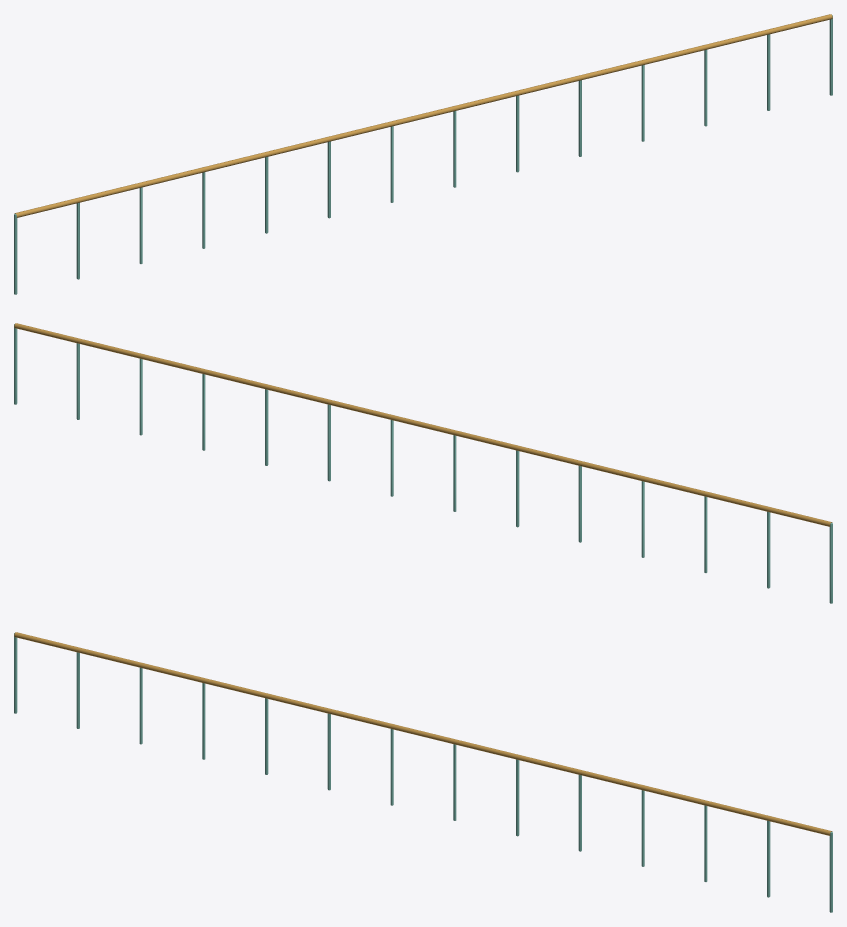
File: gallery-rail.glb
3 views of the same model, one above another, from view 1: azimuth 30°, elevation 25°; view 2: azimuth 150°, elevation 25°; view 3: azimuth 330°, elevation 25° (orthographic).
Visible parts, largest first — view 1: Gallery handrail; view 2: Gallery handrail; view 3: Gallery handrail.
Part boxes in pixels (bbox=[...]): Gallery handrail: bbox=[14, 14, 832, 217]; Gallery handrail: bbox=[14, 323, 832, 526]; Gallery handrail: bbox=[14, 632, 832, 835].
Size of the model in its own units: 11.09 by 1.05 by 0.0641.
